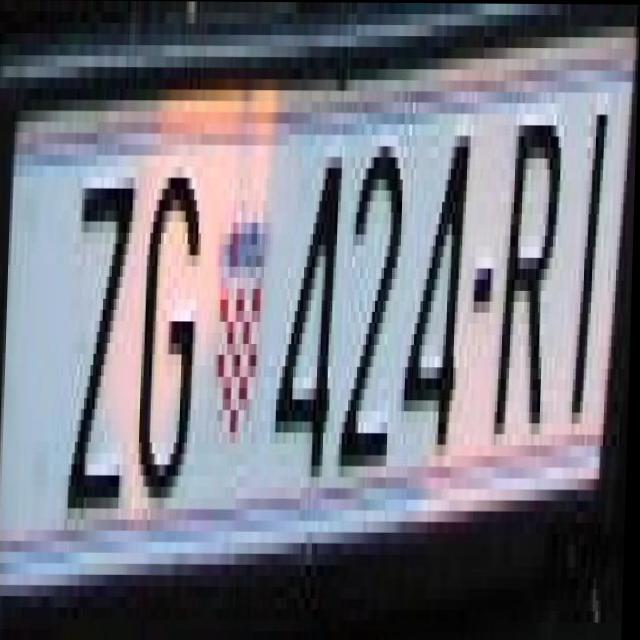2: (339, 146, 404, 466)
4: (267, 134, 346, 521), (405, 113, 475, 466)
G: (137, 166, 204, 520)
Z: (70, 166, 135, 519)
